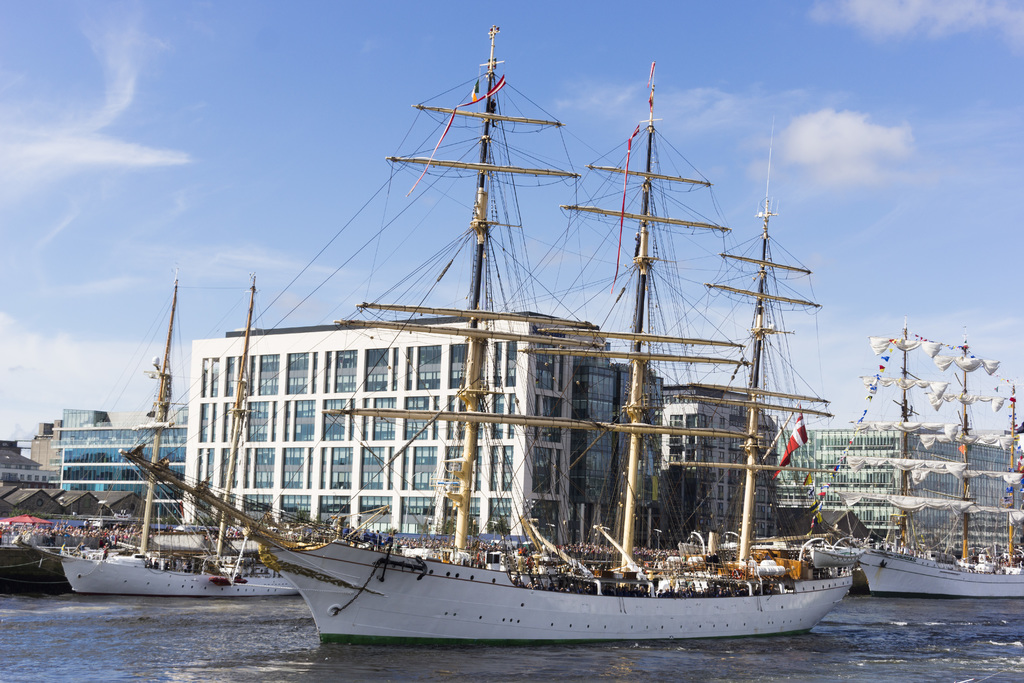boat: (121, 4, 868, 657), (43, 257, 339, 618), (855, 311, 1024, 606)
